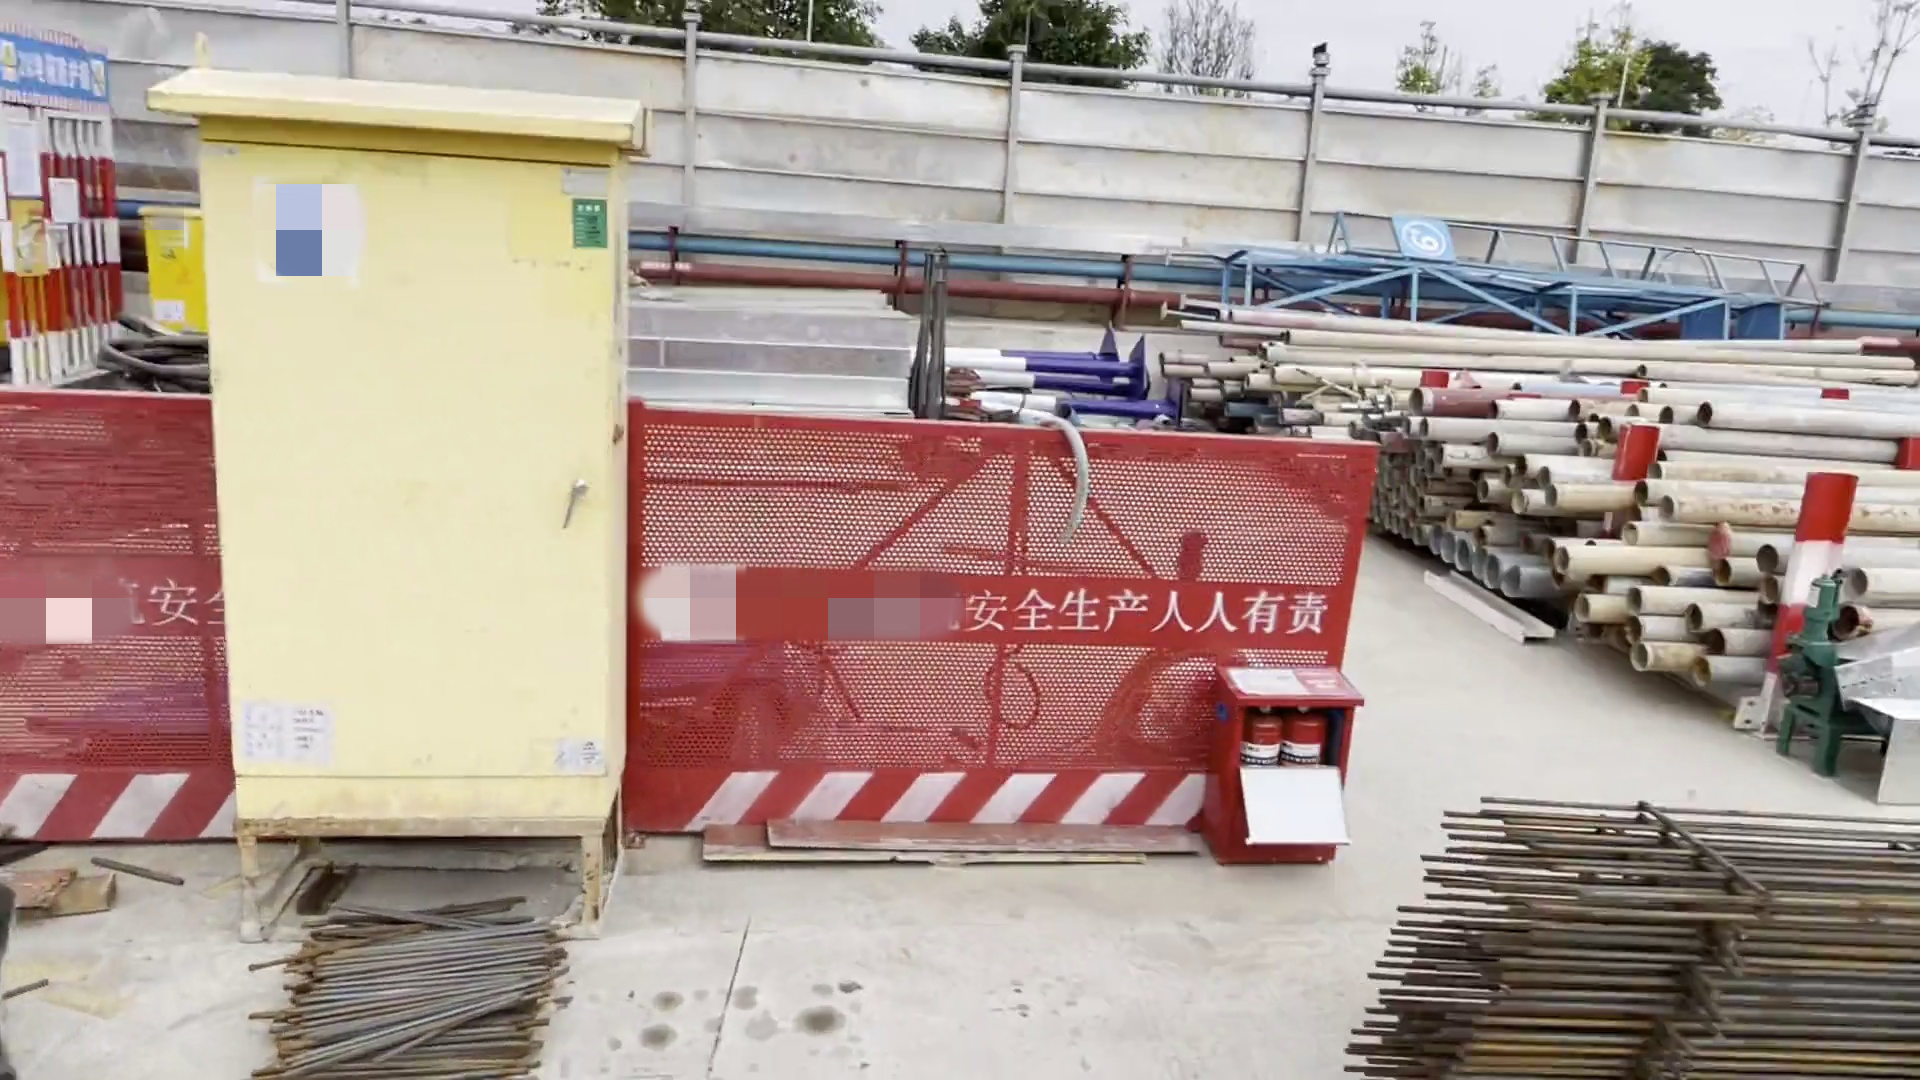ebox: (173, 59, 617, 910), (142, 193, 196, 338)
fence: (625, 396, 1362, 836), (3, 389, 233, 841)
rebar: (1379, 789, 1912, 1080), (269, 905, 551, 1075)
slogan: (1, 33, 107, 111)
